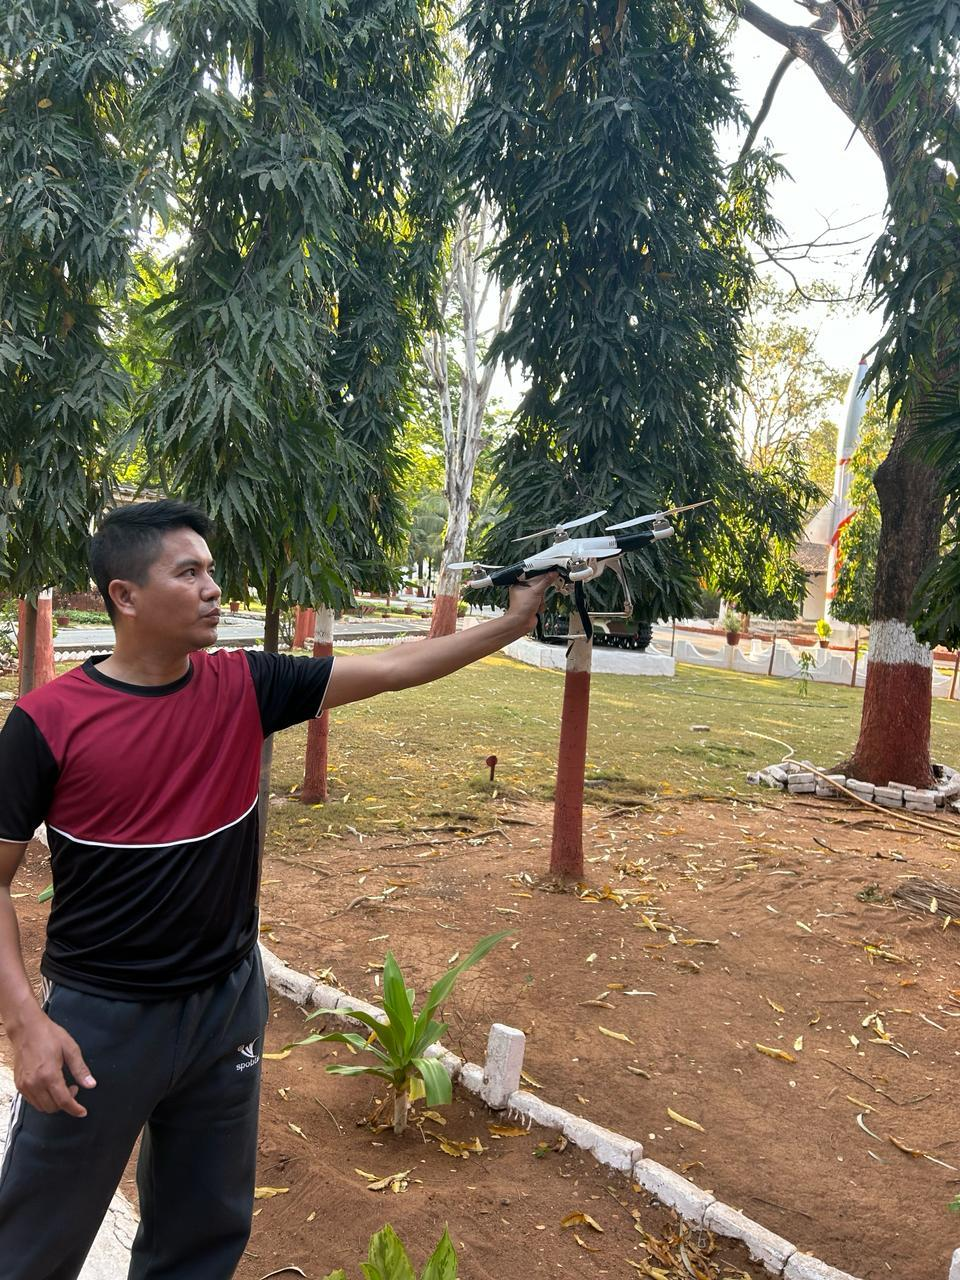drone: (424, 488, 735, 658)
